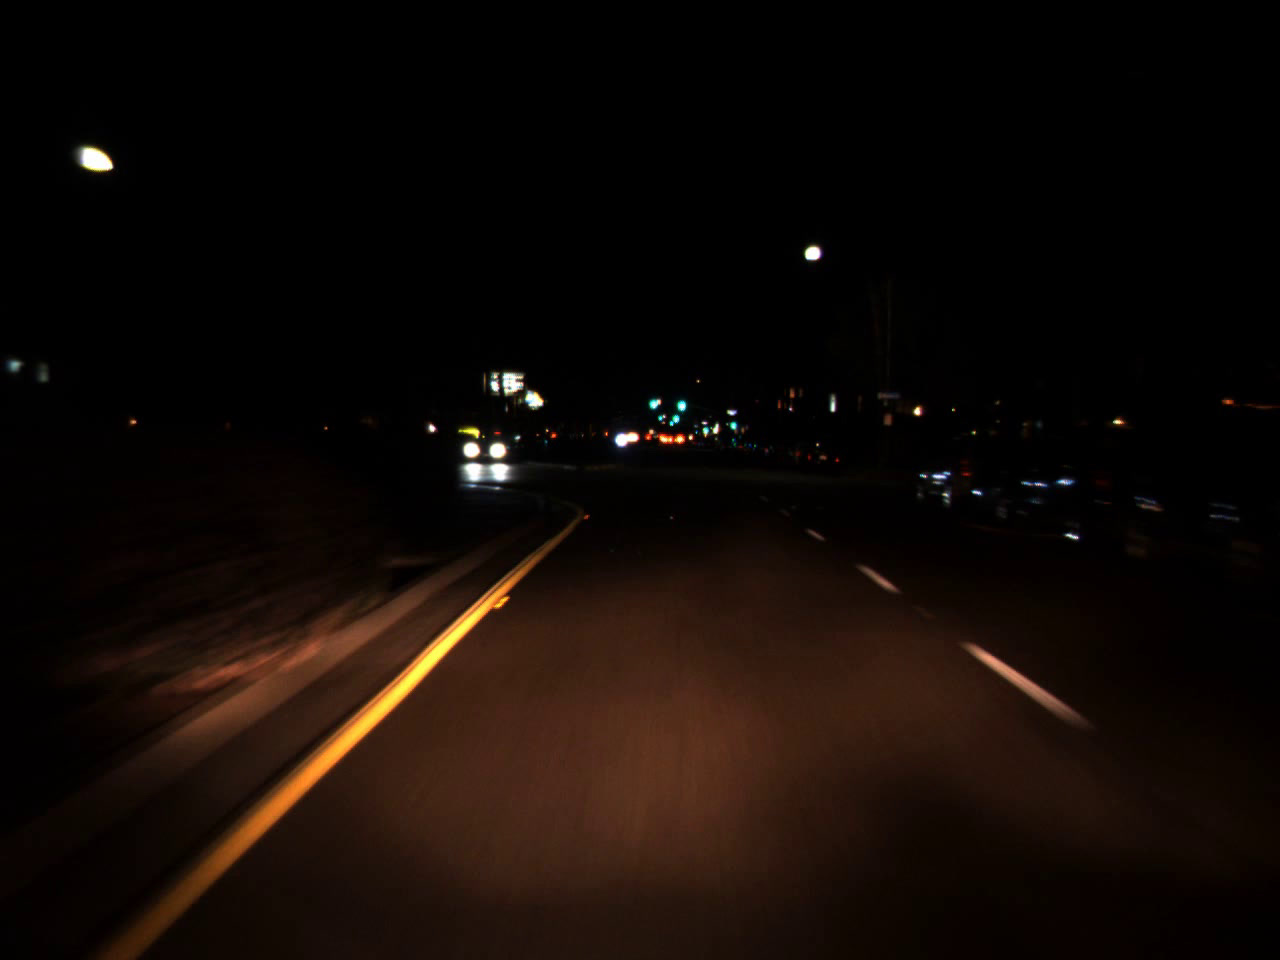go: (674, 388, 686, 415), (646, 388, 658, 412), (670, 405, 680, 426), (728, 414, 737, 432), (702, 419, 709, 435), (656, 410, 663, 422)
